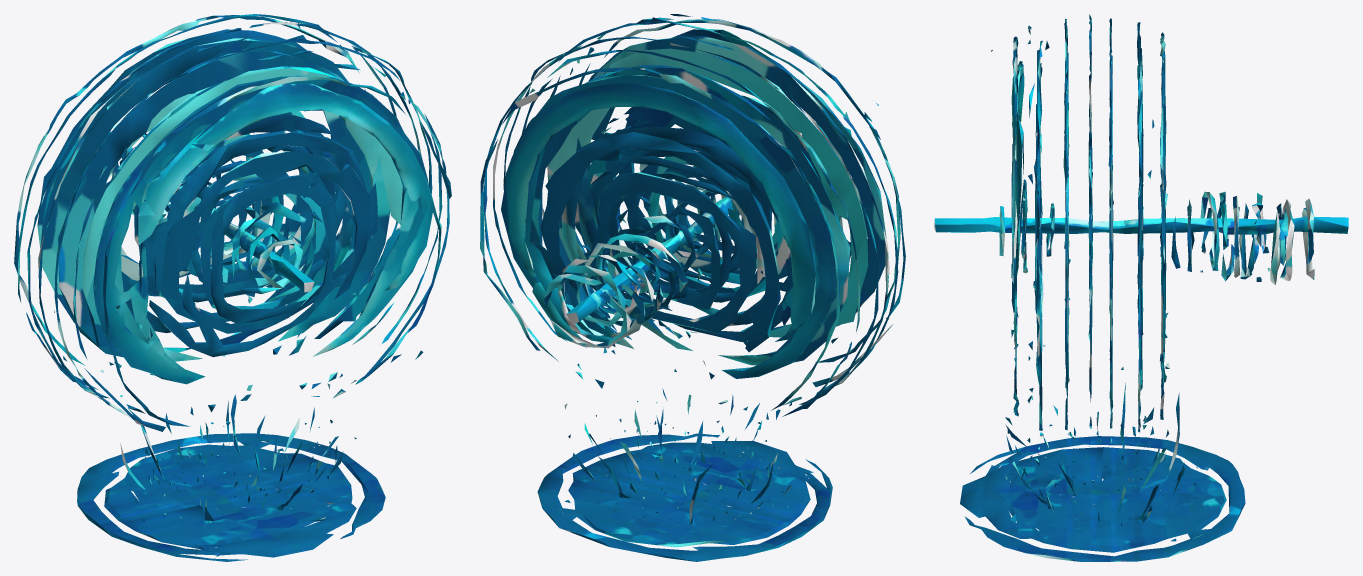
The model's file is Portal.fbx.
3 views of the same model, side by side, from view 1: azimuth 30°, elevation 25°; view 2: azimuth 150°, elevation 25°; view 3: azimuth 270°, elevation 25° (orthographic). The views are drawn at different scales.
Visible parts, largest first — view 1: tmpqcj_60z3.ply; view 2: tmpqcj_60z3.ply; view 3: tmpqcj_60z3.ply.
Part boxes in pixels (x1=…): tmpqcj_60z3.ply: x1=14, y1=14, x2=451, y2=561; tmpqcj_60z3.ply: x1=480, y1=14, x2=905, y2=561; tmpqcj_60z3.ply: x1=934, y1=14, x2=1348, y2=561.
Bounding box in the file's own units: 177 × 199 × 164.
1 material, 1 textured.
